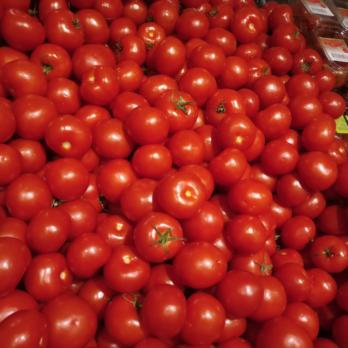Tomato: (3, 2, 303, 348), (264, 47, 348, 348)
